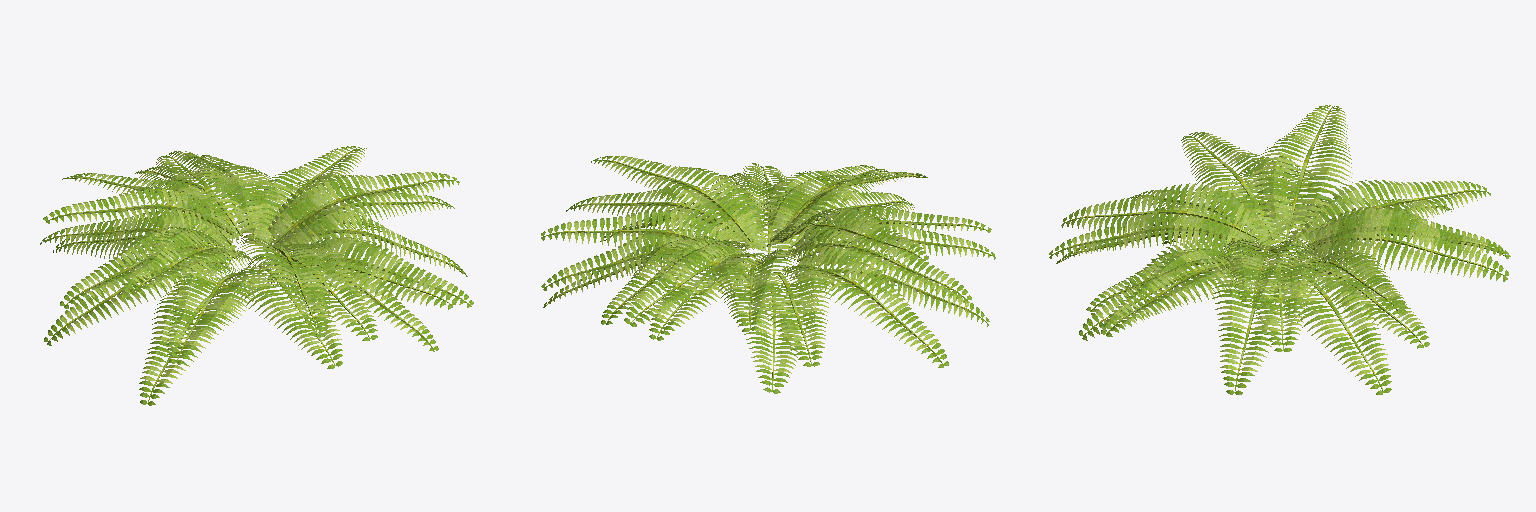
The picture shows the model from 3 angles: view 1: azimuth 30°, elevation 25°; view 2: azimuth 150°, elevation 25°; view 3: azimuth 270°, elevation 25°; orthographic projection.
Visible parts, largest first — view 1: leaf_Cube.018_leaf_Cube.013, leaf_Cube.006_leaf_Cube.005, leaf_Cube.012_leaf_Cube.009, leaf_Cube.009_leaf_Cube.006, leaf_Cube.014_leaf_Cube.011, leaf_Cube.021_leaf_Cube.016, leaf_Cube.022_leaf_Cube.017, leaf_Cube.017_leaf_Cube.012, leaf_Cube.001_leaf_Cube, leaf_Cube.003_leaf_Cube.002, leaf_Cube.019_leaf_Cube.014, leaf_Cube.023_leaf_Cube.017 (+10 smaller); view 2: leaf_Cube.018_leaf_Cube.013, leaf_Cube.019_leaf_Cube.014, leaf_Cube.004_leaf_Cube.003, leaf_Cube.016_leaf_Cube.012, leaf_Cube.023_leaf_Cube.017, leaf_Cube.003_leaf_Cube.002, leaf_Cube.012_leaf_Cube.009, leaf_Cube.011_leaf_Cube.008, leaf_Cube.014_leaf_Cube.011, leaf_Cube.002_leaf_Cube.001, leaf_Cube.020_leaf_Cube.015, leaf_Cube (+10 smaller); view 3: leaf_Cube.012_leaf_Cube.009, leaf_Cube.014_leaf_Cube.011, leaf_Cube.015_leaf_Cube.011, leaf_Cube.008_leaf_Cube.006, leaf_Cube.009_leaf_Cube.006, leaf_Cube.011_leaf_Cube.008, leaf_Cube.013_leaf_Cube.010, leaf_Cube.005_leaf_Cube.004, leaf_Cube.002_leaf_Cube.001, leaf_Cube.001_leaf_Cube, leaf_Cube.018_leaf_Cube.013, leaf_Cube.007_leaf_Cube.005 (+8 smaller).
Boxes of the visible parts, x1,y1,x2,y2 form: leaf_Cube.018_leaf_Cube.013: [268, 172, 459, 250]; leaf_Cube.006_leaf_Cube.005: [166, 263, 273, 364]; leaf_Cube.012_leaf_Cube.009: [43, 186, 237, 241]; leaf_Cube.009_leaf_Cube.006: [119, 228, 255, 300]; leaf_Cube.014_leaf_Cube.011: [237, 237, 331, 336]; leaf_Cube.021_leaf_Cube.016: [268, 237, 456, 309]; leaf_Cube.022_leaf_Cube.017: [139, 277, 254, 405]; leaf_Cube.017_leaf_Cube.012: [232, 253, 342, 368]; leaf_Cube.001_leaf_Cube: [248, 244, 377, 340]; leaf_Cube.003_leaf_Cube.002: [60, 227, 242, 308]; leaf_Cube.019_leaf_Cube.014: [44, 242, 229, 345]; leaf_Cube.023_leaf_Cube.017: [244, 146, 366, 248]; leaf_Cube.018_leaf_Cube.013: [591, 156, 763, 241]; leaf_Cube.019_leaf_Cube.014: [783, 256, 948, 367]; leaf_Cube.004_leaf_Cube.003: [736, 265, 834, 366]; leaf_Cube.016_leaf_Cube.012: [624, 236, 767, 326]; leaf_Cube.023_leaf_Cube.017: [541, 209, 739, 272]; leaf_Cube.003_leaf_Cube.002: [784, 226, 971, 302]; leaf_Cube.012_leaf_Cube.009: [767, 208, 928, 262]; leaf_Cube.011_leaf_Cube.008: [710, 249, 801, 331]; leaf_Cube.014_leaf_Cube.011: [768, 172, 927, 230]; leaf_Cube.002_leaf_Cube.001: [566, 186, 750, 243]; leaf_Cube.020_leaf_Cube.015: [727, 276, 821, 393]; leaf_Cube: [649, 242, 772, 340]; leaf_Cube.012_leaf_Cube.009: [1253, 105, 1352, 225]; leaf_Cube.014_leaf_Cube.011: [1061, 183, 1258, 251]; leaf_Cube.015_leaf_Cube.011: [1310, 207, 1508, 281]; leaf_Cube.008_leaf_Cube.006: [1275, 265, 1391, 394]; leaf_Cube.009_leaf_Cube.006: [1181, 132, 1295, 240]; leaf_Cube.011_leaf_Cube.008: [1302, 180, 1490, 256]; leaf_Cube.013_leaf_Cube.010: [1211, 254, 1307, 394]; leaf_Cube.005_leaf_Cube.004: [1101, 248, 1261, 336]; leaf_Cube.002_leaf_Cube.001: [1228, 251, 1327, 351]; leaf_Cube.001_leaf_Cube: [1049, 205, 1248, 258]; leaf_Cube.018_leaf_Cube.013: [1219, 238, 1316, 307]; leaf_Cube.007_leaf_Cube.005: [1281, 255, 1429, 348].
Size of the model in its own units: 17.69 by 5.82 by 17.91.
Materials: 1 (1 with a texture image).